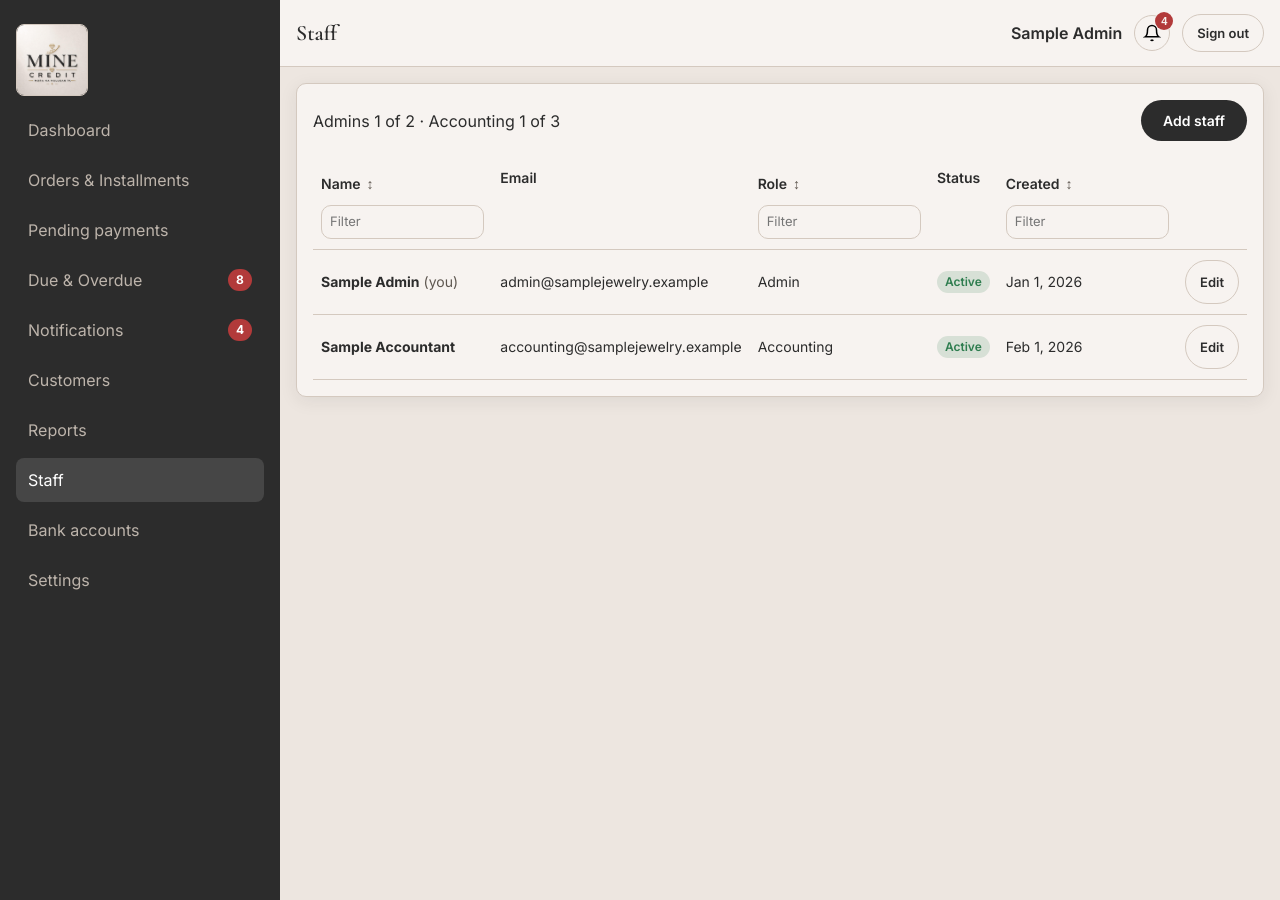
Test: admin staff page › shows the server message when editing fails by changing your own role
Expected: the text "Sample Accountant" is shown, left=321, top=338, right=455, bottom=355
Click the button with aria-label "Edit Sample Admin": (1212, 282) left=1185, top=260, right=1239, bottom=304
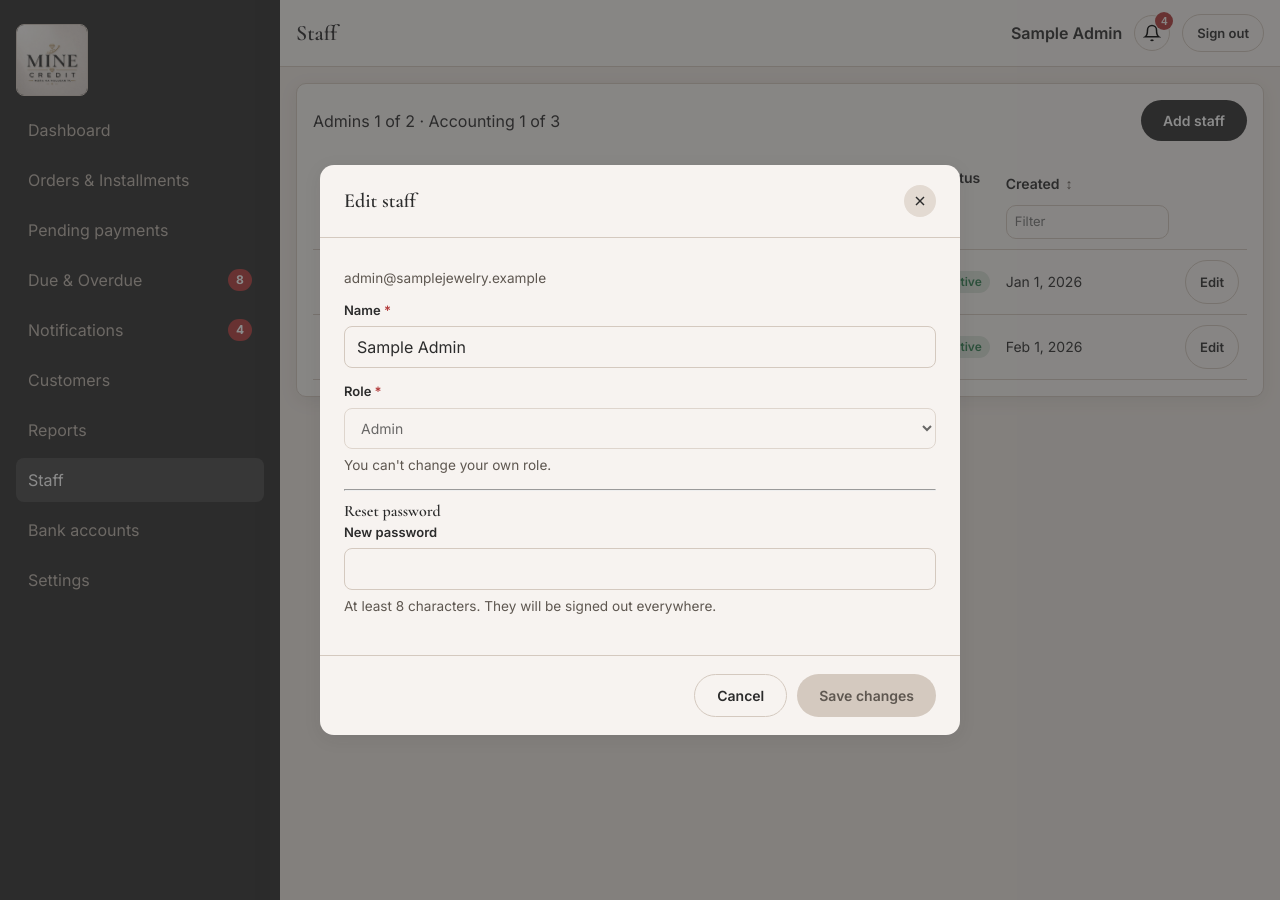
Replace the text in the field labelled "Name" with "Renamed": (640, 347) left=344, top=326, right=936, bottom=368
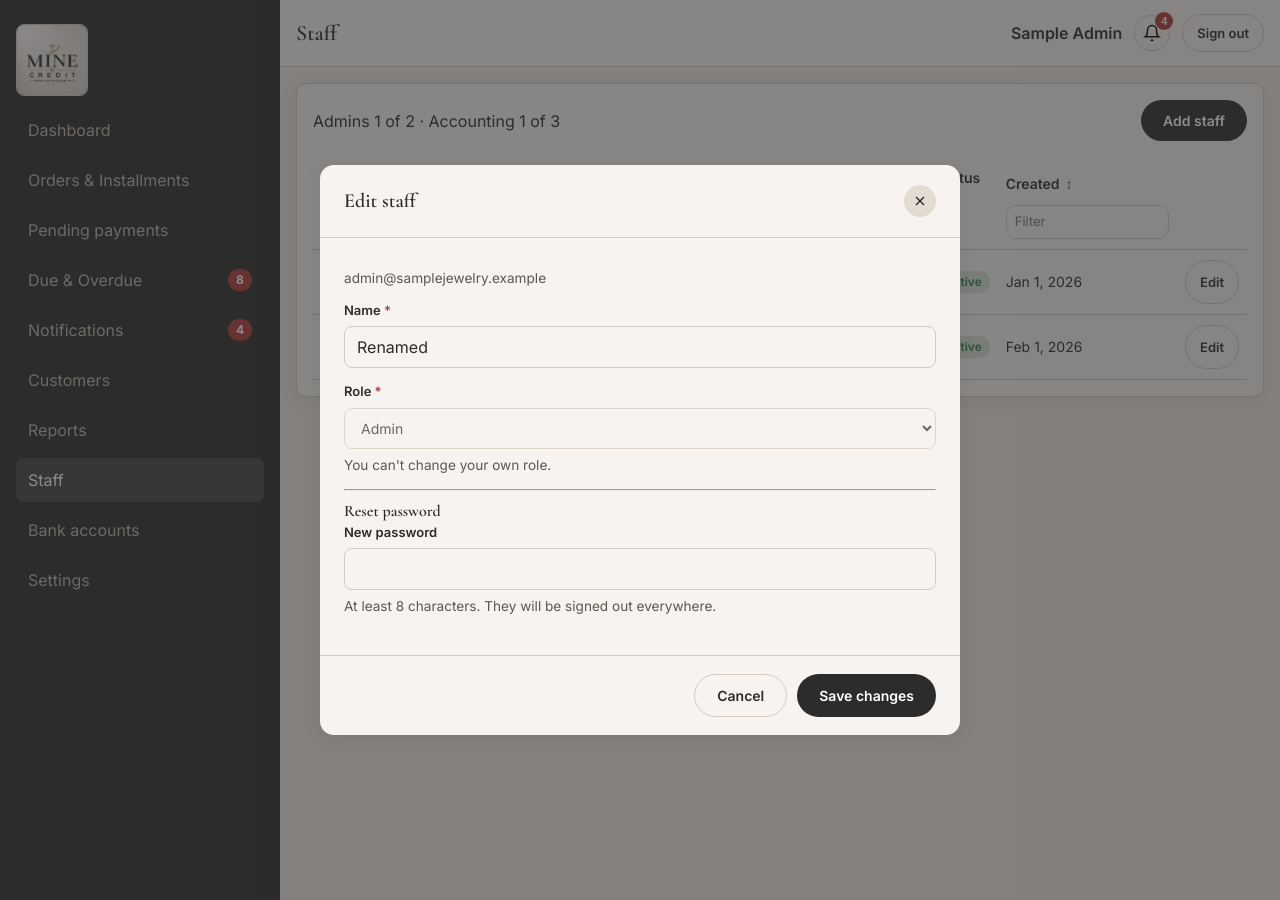
Click the button "Save changes": (867, 695) left=797, top=674, right=936, bottom=717
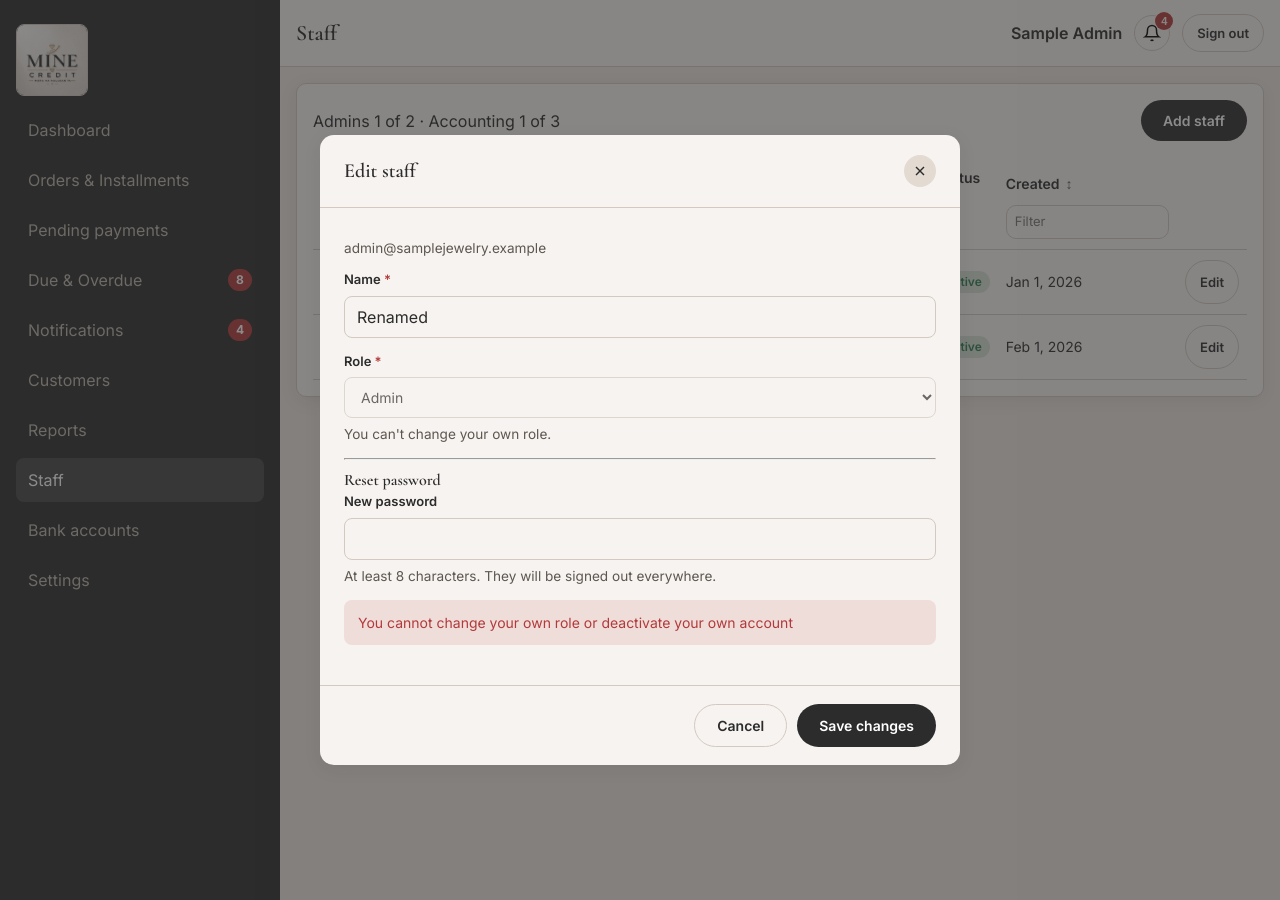
Result: the dialog is shown at left=320, top=135, right=960, bottom=765
Result: the message reads "You cannot change your own role or deactivate your own account" at left=358, top=614, right=793, bottom=631
